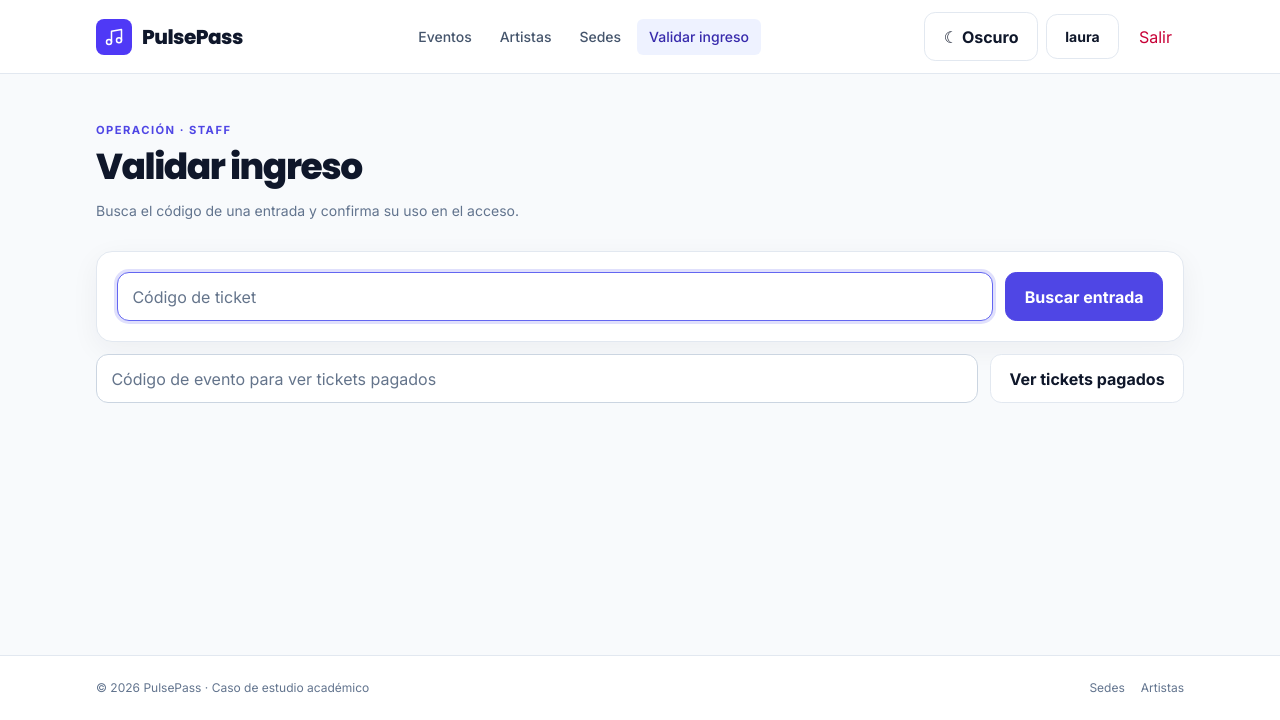
Test case: STAFF: validación de ingreso › un segundo intento (409) muestra el mensaje del backend
This screenshot has width=1280, height=720.
Step 1. Type "TKT-8F2A1C" into the field named "Código del ticket" → [555, 297], box [117, 272, 993, 321]
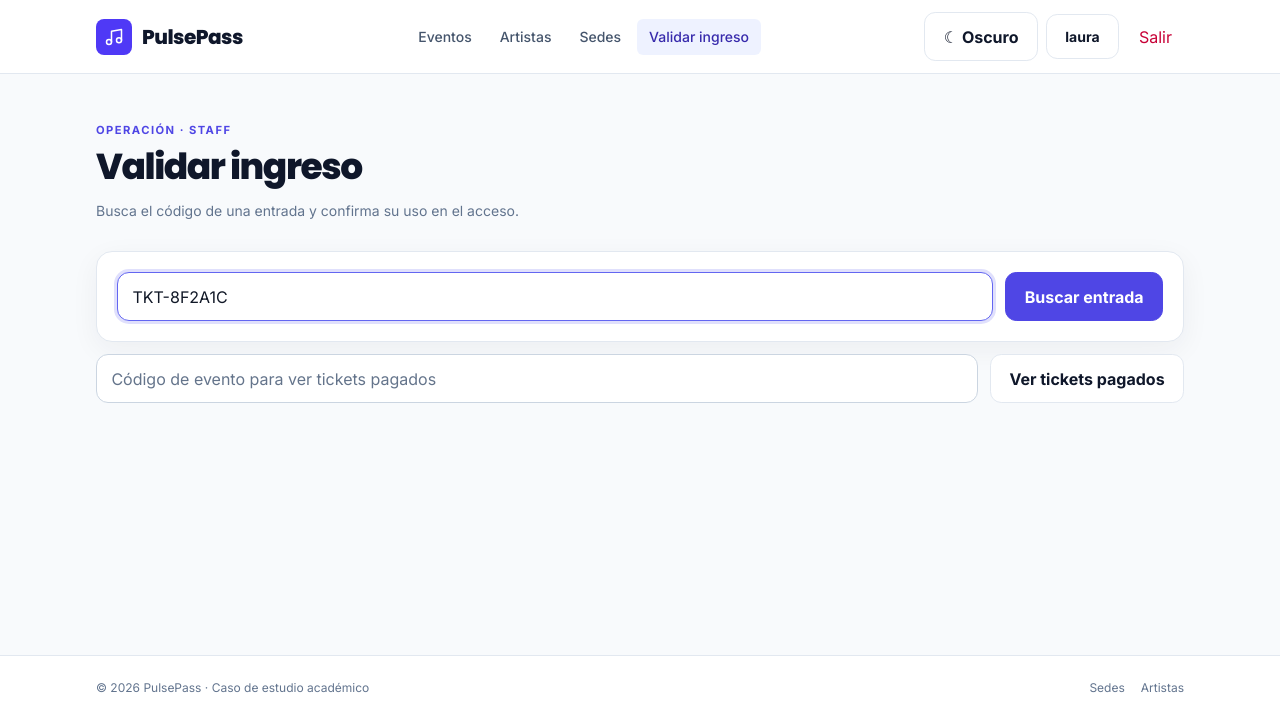
Step 2. Click the button "Buscar entrada" → [1084, 297], box [1005, 272, 1163, 321]
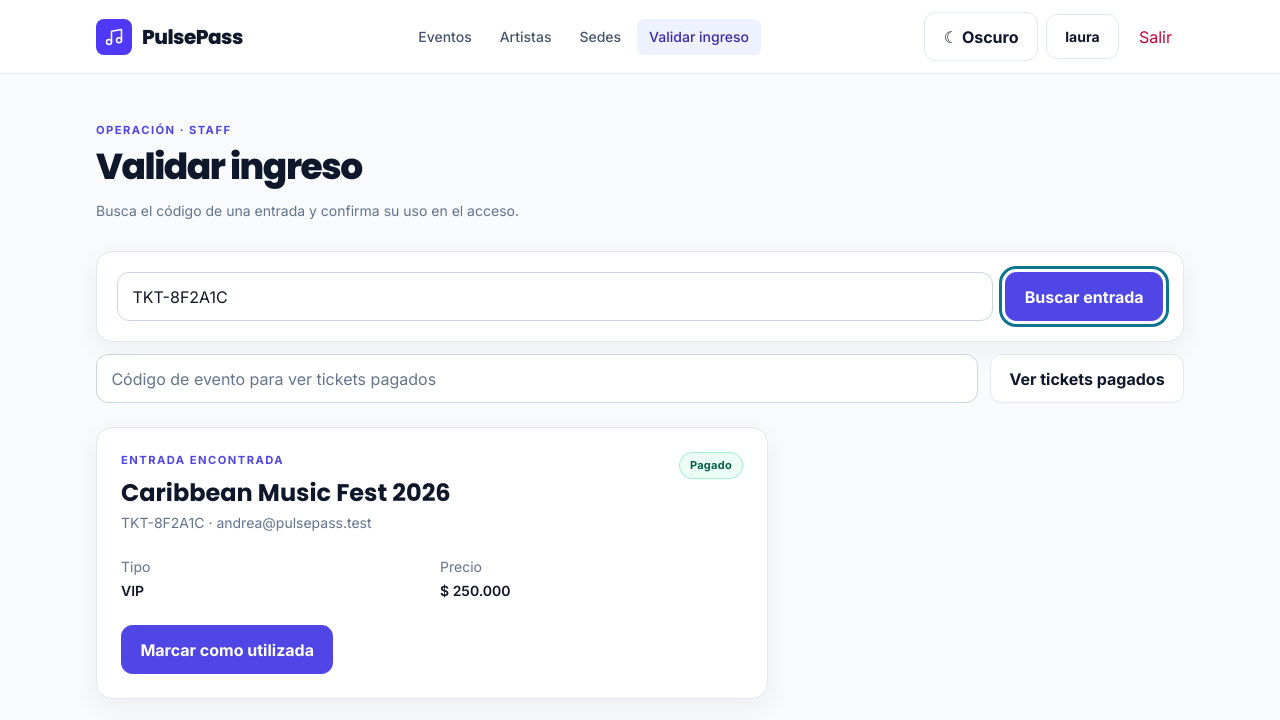
Step 3. Click the button "Marcar como utilizada" → [227, 650], box [121, 625, 333, 674]
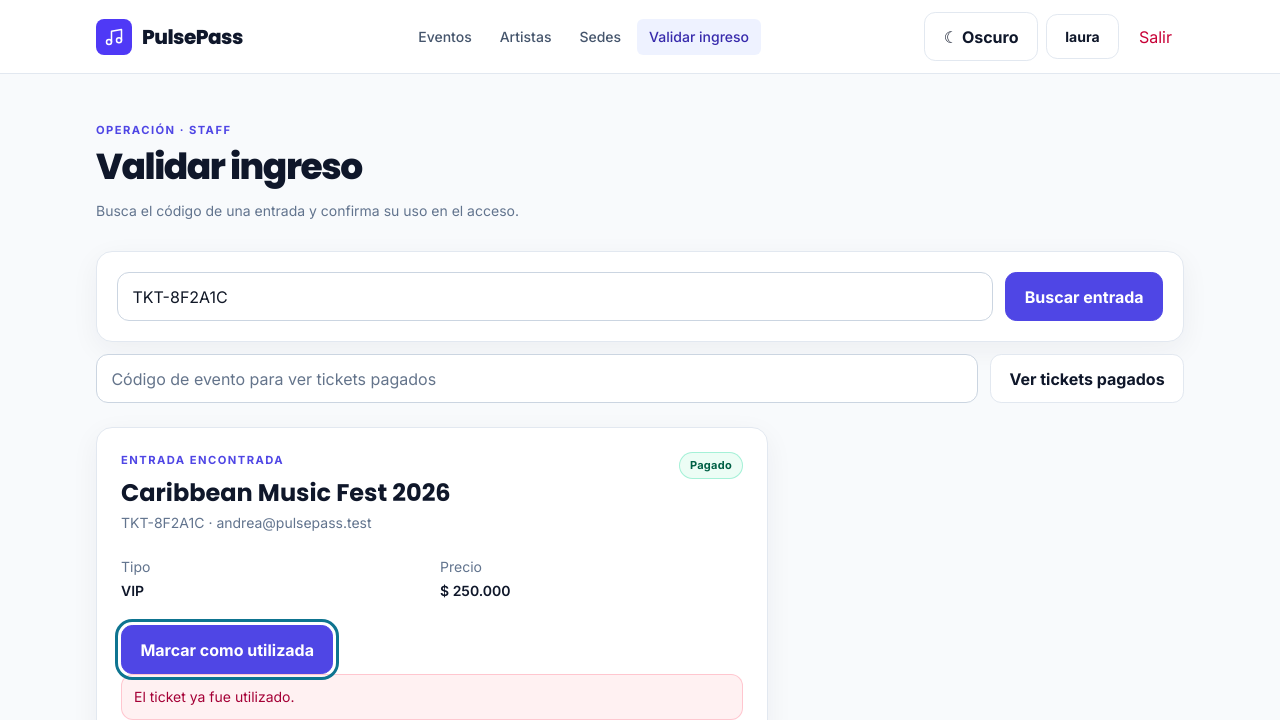
Now the text "El ticket ya fue utilizado." is shown, box [121, 674, 743, 719]
